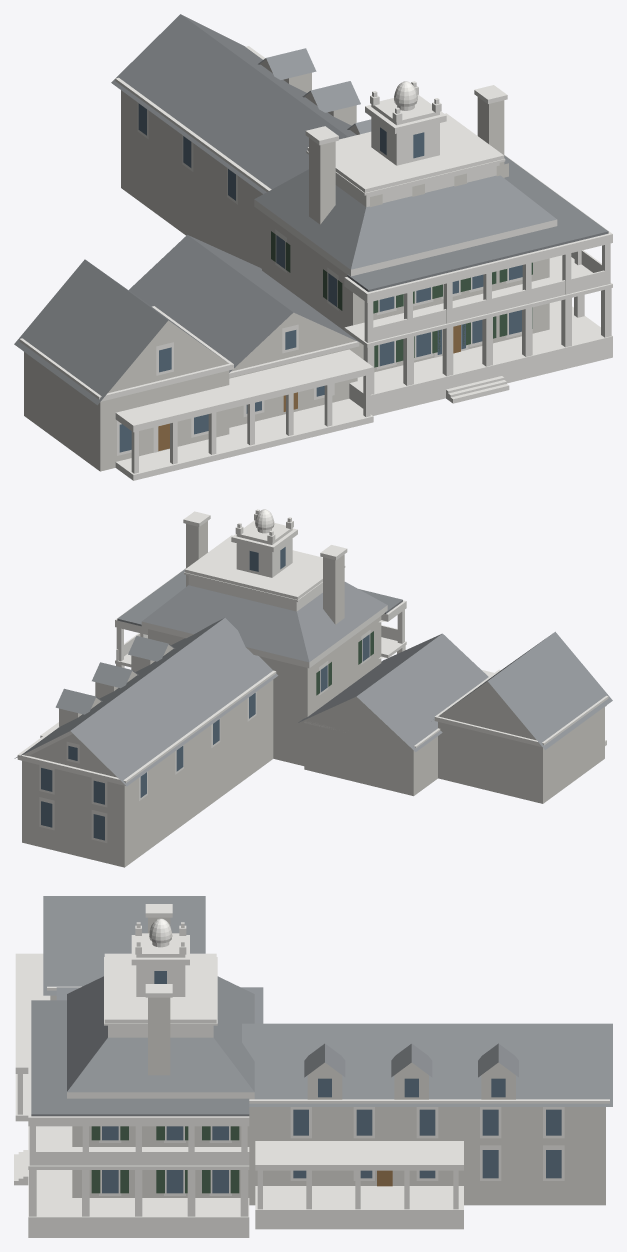
File: slc-beehive-house.glb
3 views of the same model, one above another, from view 1: azimuth 30°, elevation 25°; view 2: azimuth 150°, elevation 25°; view 3: azimuth 270°, elevation 25° (orthographic). The views are drawn at different scales.
Parts seen in each view (by area): view 1: Beehive House; view 2: Beehive House; view 3: Beehive House.
Part boxes in pixels (x1=…): Beehive House: x1=14, y1=14, x2=612, y2=480; Beehive House: x1=14, y1=509, x2=612, y2=867; Beehive House: x1=14, y1=896, x2=612, y2=1237.
Bounding box in the file's own units: 36.15 × 17.67 × 37.95.
